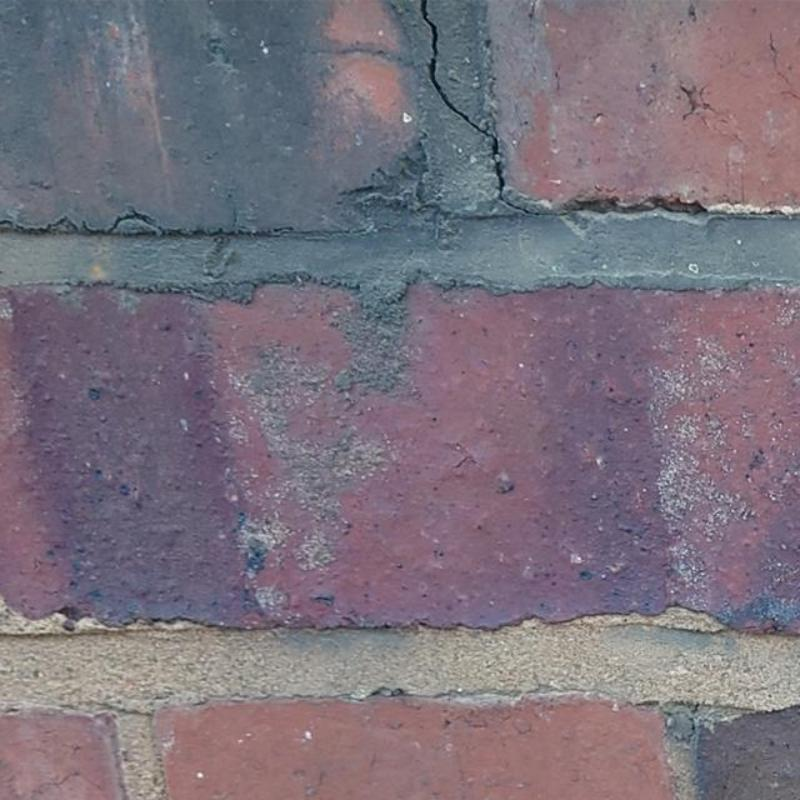pothole: (422, 0, 569, 217)
